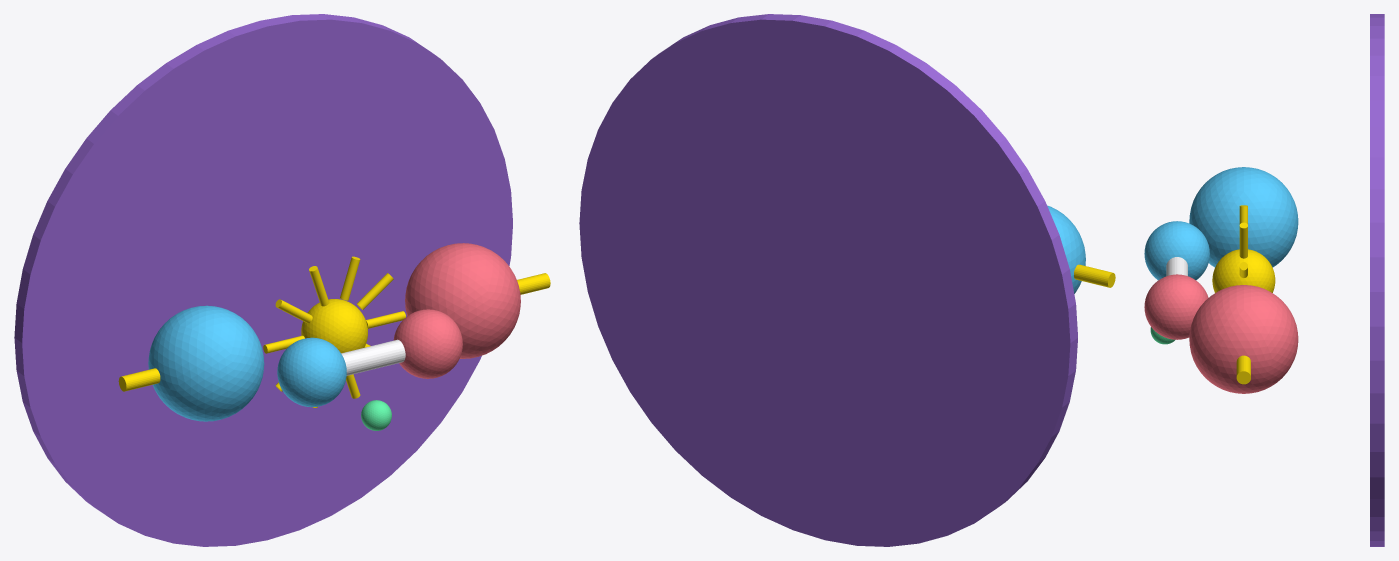
The model's file is modelo.glb.
3 views of the same model, side by side, from view 1: azimuth 30°, elevation 25°; view 2: azimuth 150°, elevation 25°; view 3: azimuth 270°, elevation 25° (orthographic). The views are drawn at different scales.
Visible parts, largest first — view 1: base, particula_A, particula_B, produto_A, produto_B, colisao, nova_ligacao, indicador_reacao, movimento_A; view 2: base, particula_A, movimento_A; view 3: particula_B, base, particula_A, produto_B, produto_A, colisao, movimento_B, nova_ligacao, energia_2.
Part boxes in pixels (left/top/right/bottom): base: left=14, top=14, right=512, bottom=546; particula_A: left=148, top=305, right=264, bottom=421; particula_B: left=405, top=243, right=520, bottom=358; produto_A: left=277, top=337, right=346, bottom=407; produto_B: left=393, top=309, right=462, bottom=378; colisao: left=301, top=299, right=367, bottom=353; nova_ligacao: left=341, top=339, right=405, bottom=375; indicador_reacao: left=361, top=400, right=391, bottom=430; movimento_A: left=118, top=368, right=160, bottom=391; base: left=579, top=14, right=1077, bottom=546; particula_A: left=1047, top=205, right=1085, bottom=293; movimento_A: left=1074, top=264, right=1115, bottom=287; particula_B: left=1189, top=285, right=1298, bottom=393; base: left=1370, top=14, right=1384, bottom=546; particula_A: left=1189, top=167, right=1298, bottom=267; produto_B: left=1144, top=274, right=1208, bottom=339; produto_A: left=1144, top=221, right=1209, bottom=280; colisao: left=1212, top=249, right=1275, bottom=292; movimento_B: left=1236, top=355, right=1250, bottom=384; nova_ligacao: left=1166, top=257, right=1187, bottom=276; energia_2: left=1239, top=222, right=1247, bottom=258.
Bounding box in the file's own units: 0.44 × 0.44 × 0.198.
